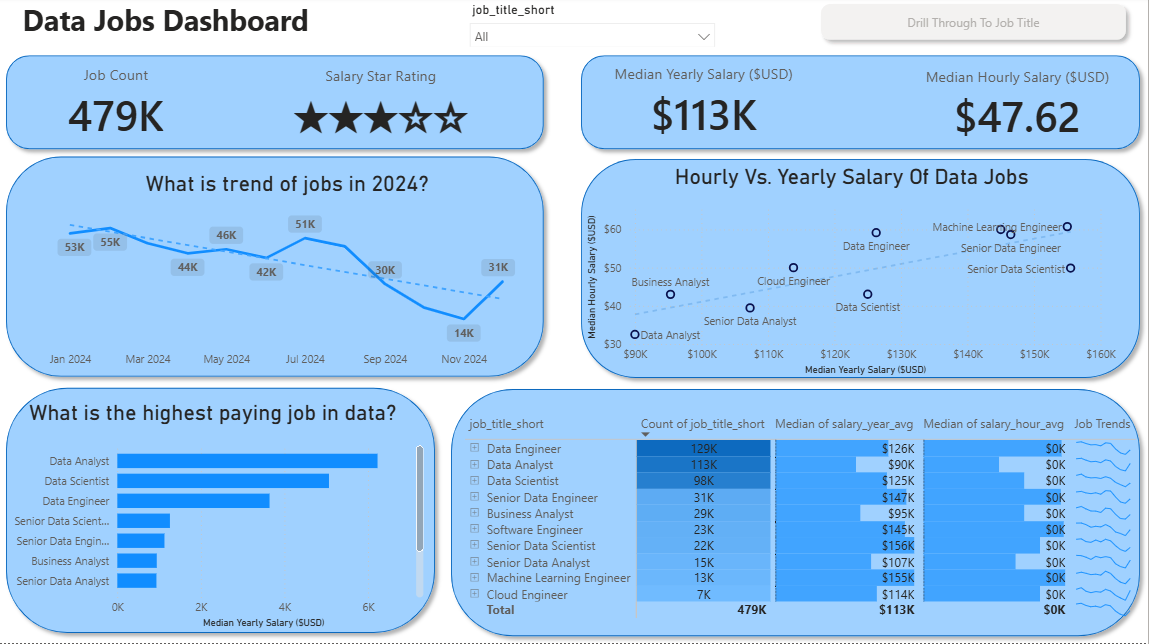

This screenshot's page, from the dashboard's own definition file:
{"tool":"powerbi","page":{"name":"Data Jobs Dashboard","canvas":[1280,720],"ordinal":0},"visuals":[{"type":"group","id":"g1","title":"Background","box":[0,57,1280.3,664.1],"z":0},{"type":"textbox","box":[22.3,0,570.4,65.4],"z":1000},{"type":"slicer","fields":{"Values":["job_postings_flat.job_title_short"]},"box":[514.8,1.4,293.5,55],"z":2000},{"type":"cardVisual","fields":{"Data":["Median(job_postings_flat.salary_year_avg)"]},"box":[640,48.7,291,138.2],"z":3000},{"type":"cardVisual","fields":{"Data":["job_postings_flat.Salary Star Rating"]},"box":[286.6,44.5,279.7,150.3],"z":4000},{"type":"cardVisual","fields":{"Data":["Median(job_postings_flat.salary_hour_avg)"]},"box":[989.2,51.5,291,138.2],"z":5000},{"type":"cardVisual","fields":{"Data":["CountNonNull(job_postings_flat.job_title_short)"]},"box":[9.7,57,243.5,125.2],"z":6000},{"type":"lineChart","title":"What is trend of jobs in 2024?","fields":{"Category":["job_postings_flat.job_posted_date.Variation.Date Hierarchy.Year","job_postings_flat.job_posted_date.Variation.Date Hierarchy.Quarter","job_postings_flat.job_posted_date.Variation.Date Hierarchy.Month","job_postings_flat.job_posted_date.Variation.Date Hierarchy.Day"],"Y":["CountNonNull(job_postings_flat.job_title_short)"]},"box":[51.5,194.8,541.2,228.2],"z":7000},{"type":"barChart","title":"What is the highest paying job in data?","fields":{"Category":["job_postings_flat.job_title_short"],"Y":["CountNonNull(job_postings_flat.salary_year_avg)"]},"box":[0,449.1,478.6,258.8],"z":8000},{"type":"scatterChart","title":"Hourly Vs. Yearly Salary Of Data Jobs","fields":{"X":["Median(job_postings_flat.salary_year_avg)"],"Y":["Median(job_postings_flat.salary_hour_avg)"],"Series":["job_postings_flat.job_title_short"]},"box":[651.1,186.4,598.3,240.7],"z":9000},{"type":"pivotTable","fields":{"Rows":["job_postings_flat.job_title_short","job_postings_flat.job_posted_date.Variation.Date Hierarchy.Quarter"],"Values":["CountNonNull(job_postings_flat.job_title_short)","Median(job_postings_flat.salary_year_avg)","Median(job_postings_flat.salary_hour_avg)","SparklineData(CountNonNull(job_postings_flat.job_title_short)_[job_postings_flat.job_posted_date.Variation.Date Hierarch"]},"box":[514.8,461.4,764.1,246.5],"z":10000},{"type":"actionButton","box":[907.1,0,357.1,57.5],"z":11000},{"type":"shape","box":[0,169.7,616.3,263],"z":11000,"group":"g1"},{"type":"shape","box":[0,57,616.3,122.4],"z":11500,"group":"g1"},{"type":"shape","box":[640,57,640,122.4],"z":12000,"group":"g1"},{"type":"shape","box":[640,172.5,640,261.6],"z":13000,"group":"g1"},{"type":"shape","box":[0,427.1,495.3,290.8],"z":14000,"group":"g1"},{"type":"shape","box":[495.7,428.1,784.6,293],"z":15000,"group":"g1"}]}

Visuals, with their boxes in screenshot pixels (x1, y1, x2, y2), scaled from the page's 1280x720 canvas onto the 1149x644 screenshot:
"Background" group: 0 51 1148 643
textbox: 20 0 532 58
slicer - job_postings_flat.job_title_short: 462 1 726 50
cardVisual - Median(job_postings_flat.salary_year_avg): 574 44 836 167
cardVisual - job_postings_flat.Salary Star Rating: 257 40 508 174
cardVisual - Median(job_postings_flat.salary_hour_avg): 888 46 1148 170
cardVisual - CountNonNull(job_postings_flat.job_title_short): 9 51 227 163
"What is trend of jobs in 2024?" lineChart: 46 174 532 378
"What is the highest paying job in data?" barChart: 0 402 430 633
"Hourly Vs. Yearly Salary Of Data Jobs" scatterChart: 584 167 1122 382
pivotTable - job_postings_flat.job_title_short x job_postings_flat.job_posted_date.Variation.Date Hierarchy.Quarter: 462 413 1148 633
actionButton: 814 0 1135 51
shape: 0 152 553 387
shape: 0 51 553 160
shape: 574 51 1148 160
shape: 574 154 1148 388
shape: 0 382 445 642
shape: 445 383 1148 643
